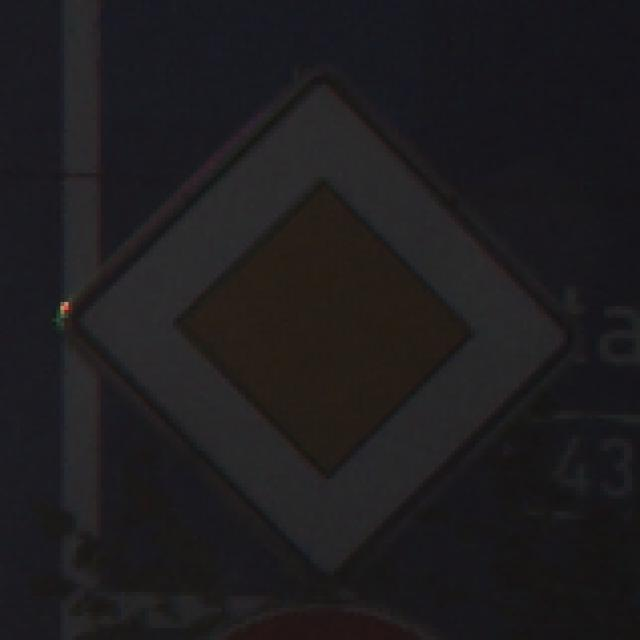Main Road: (53, 53, 589, 589)
